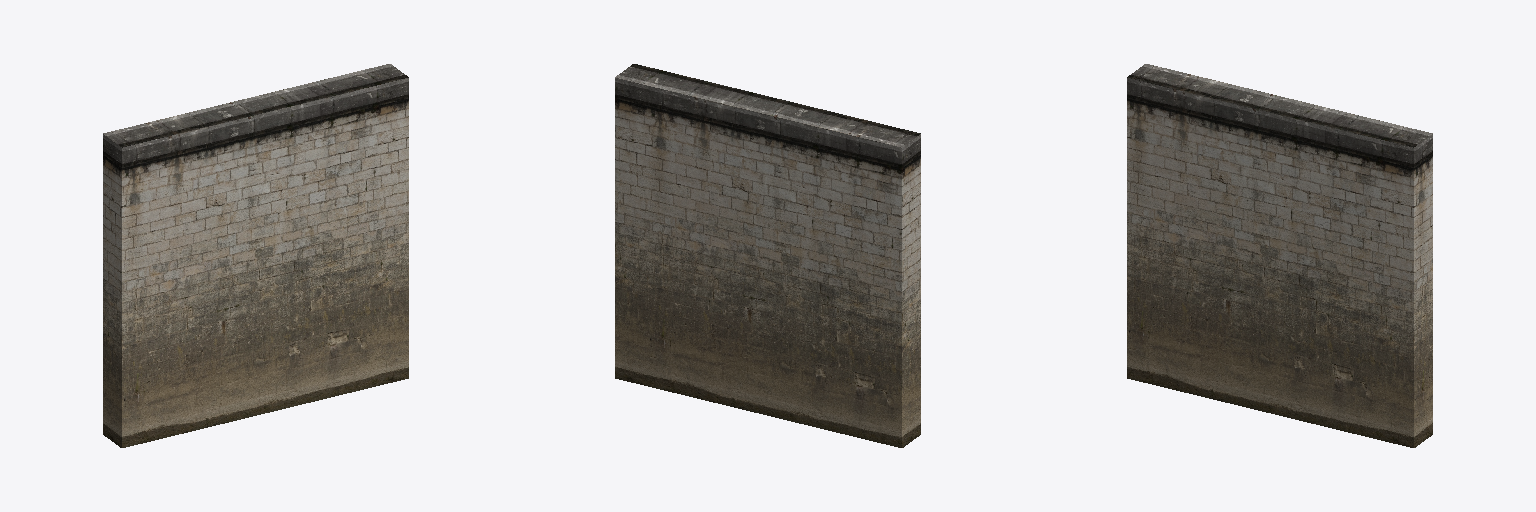
3 views of the same model, side by side, from view 1: azimuth 30°, elevation 25°; view 2: azimuth 150°, elevation 25°; view 3: azimuth 330°, elevation 25° (orthographic).
Visible parts, largest first — view 1: Cube; view 2: Cube; view 3: Cube.
Boxes of the visible parts, box(x1,y1,x2,y2) form: Cube: box(103, 64, 408, 447); Cube: box(615, 64, 920, 447); Cube: box(1127, 64, 1432, 447).
Size of the model in its own units: 10.23 by 10.23 by 1.19.
1 materials, 1 textured.